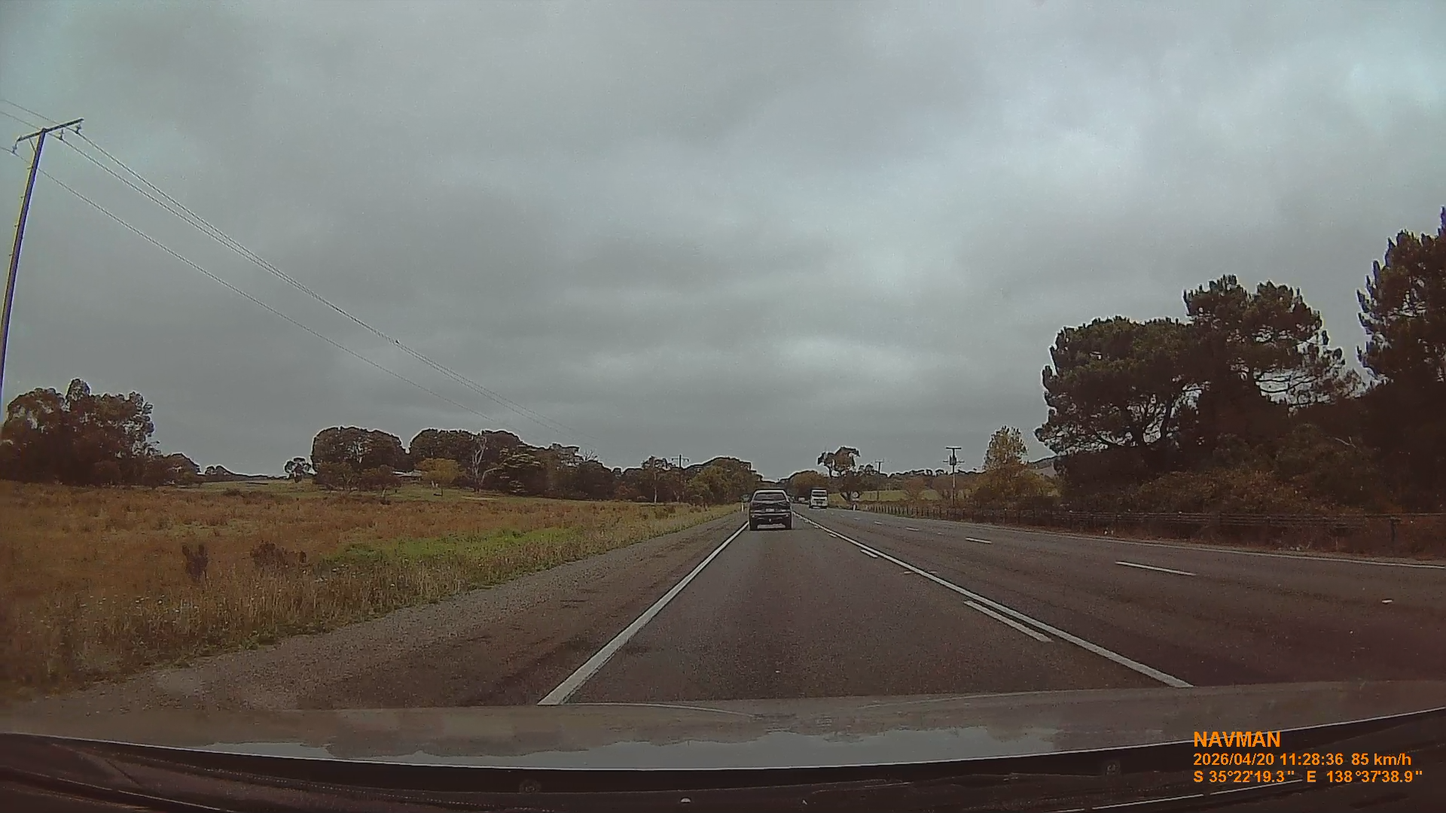fences: (825, 504, 1439, 563)
